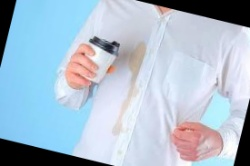coffee: (110, 40, 151, 139)
